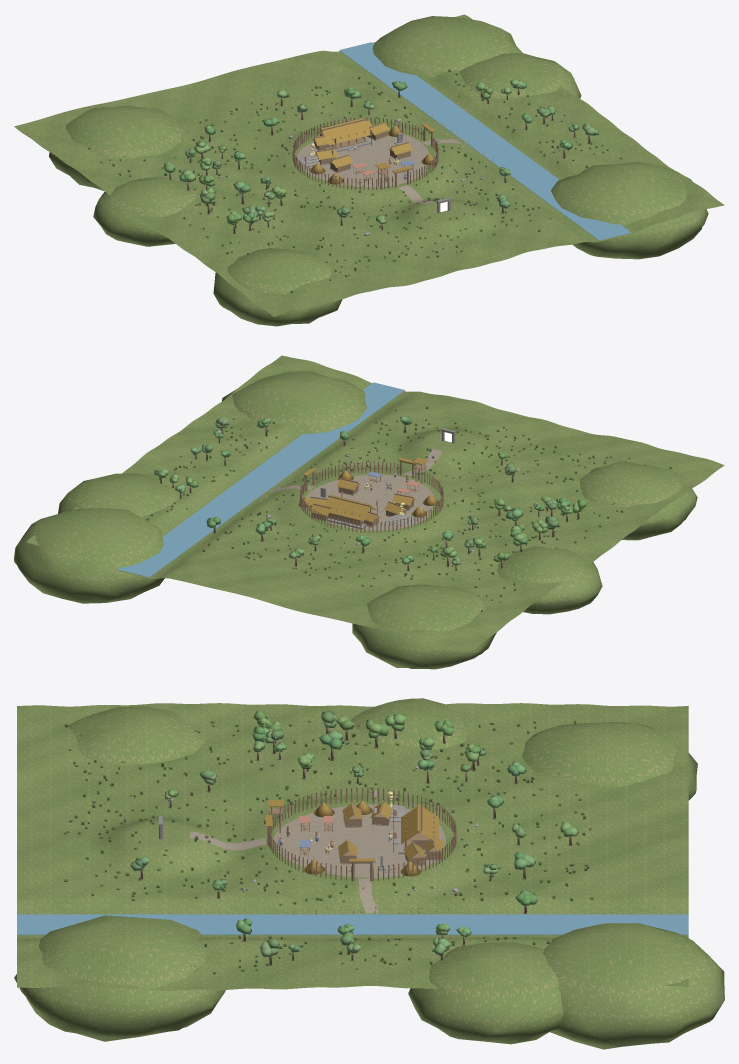
Rendered from gojoseon.glb.
The picture shows the model from 3 angles, top to bottom: view 1: azimuth 30°, elevation 25°; view 2: azimuth 150°, elevation 25°; view 3: azimuth 270°, elevation 25°; orthographic projection. The views are drawn at different scales.
Visible parts, largest first — view 1: ground, hill.001, river, hill.005, hill, hill.004, hill.002, hill.003, capital_floor, blades, pal_roof; view 2: ground, hill.005, hill.004, river, hill.001, hill, hill.002, hill.003, capital_floor, blades, pal_roof.001; view 3: ground, hill.005, hill.001, hill.003, river, hill.004, hill, capital_floor, blades, hill.002.
Boxes of the visible parts, bbox=[...] form: ground: bbox=[14, 14, 724, 316]; hill.001: bbox=[551, 162, 708, 259]; river: bbox=[339, 42, 631, 240]; hill.005: bbox=[372, 16, 522, 77]; hill: bbox=[213, 248, 342, 326]; hill.004: bbox=[49, 105, 185, 191]; hill.002: bbox=[93, 176, 196, 246]; hill.003: bbox=[460, 53, 581, 98]; capital_floor: bbox=[297, 131, 429, 187]; blades: bbox=[88, 69, 621, 292]; pal_roof: bbox=[321, 118, 372, 145]; ground: bbox=[26, 355, 724, 652]; hill.005: bbox=[14, 508, 164, 603]; hill.004: bbox=[352, 584, 496, 669]; river: bbox=[118, 382, 404, 577]; hill.001: bbox=[222, 371, 367, 434]; hill: bbox=[579, 461, 697, 540]; hill.002: bbox=[497, 546, 602, 614]; hill.003: bbox=[58, 473, 178, 516]; capital_floor: bbox=[306, 474, 434, 530]; blades: bbox=[146, 407, 671, 611]; pal_roof.001: bbox=[324, 494, 371, 521]; ground: bbox=[17, 703, 688, 990]; hill.005: bbox=[543, 923, 724, 1049]; hill.001: bbox=[14, 915, 225, 1041]; hill.003: bbox=[408, 942, 563, 1044]; river: bbox=[17, 914, 688, 934]; hill.004: bbox=[522, 722, 697, 800]; hill: bbox=[68, 706, 204, 764]; capital_floor: bbox=[274, 804, 445, 877]; blades: bbox=[63, 721, 593, 974]; hill.002: bbox=[351, 698, 467, 749].
Size of the model in its own units: 157 by 23.71 by 148.
28 materials, 7 textured.
